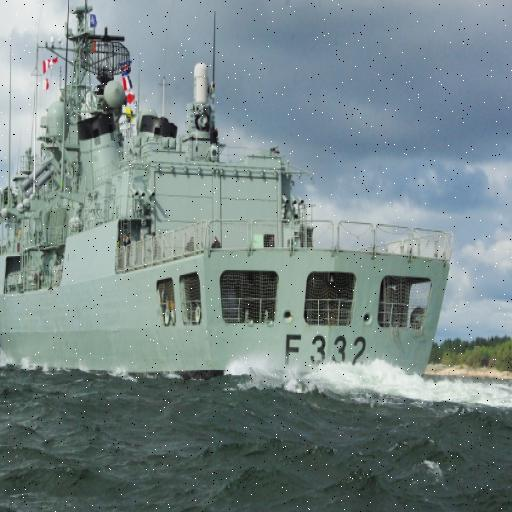Fragata: (1, 1, 454, 397)
